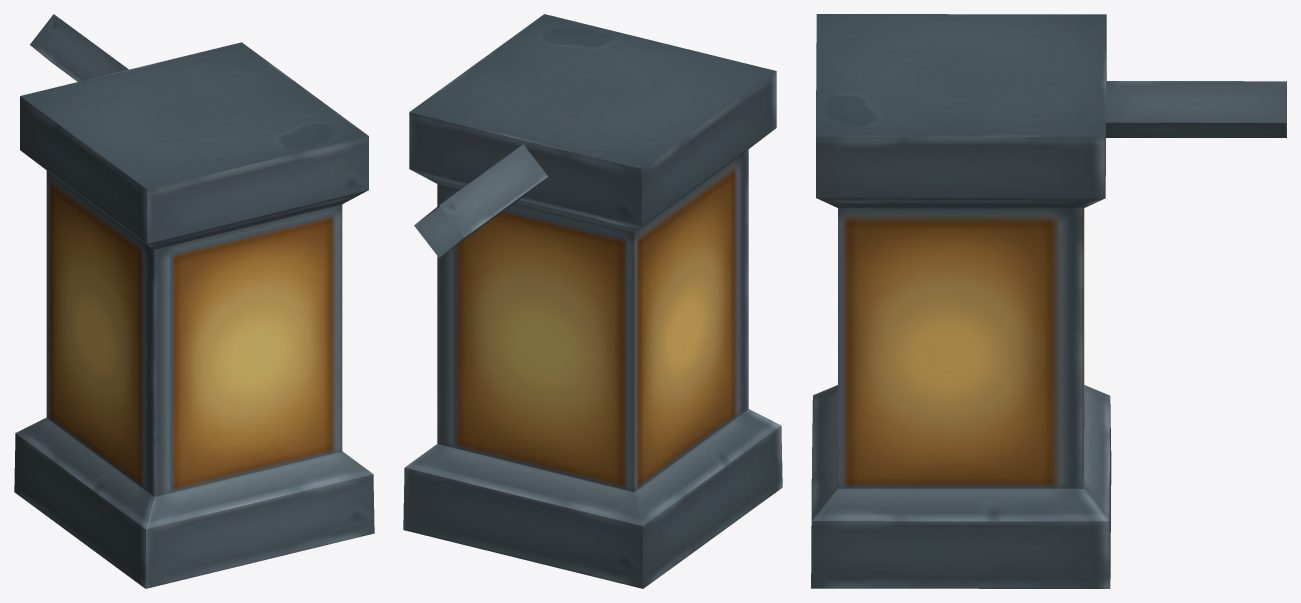
File: lantern_01.fbx
3 views of the same model, side by side, from view 1: azimuth 30°, elevation 25°; view 2: azimuth 150°, elevation 25°; view 3: azimuth 270°, elevation 25° (orthographic). The views are drawn at different scales.
Parts seen in each view (by area): view 1: lantern_01:Mesh; view 2: lantern_01:Mesh; view 3: lantern_01:Mesh.
Boxes of the visible parts, x1=… form: lantern_01:Mesh: x1=14, y1=14, x2=374, y2=588; lantern_01:Mesh: x1=403, y1=14, x2=782, y2=588; lantern_01:Mesh: x1=811, y1=14, x2=1286, y2=588.
Size of the model in its own units: 0.2737 by 0.4527 by 0.4338.
1 material, 1 textured.
